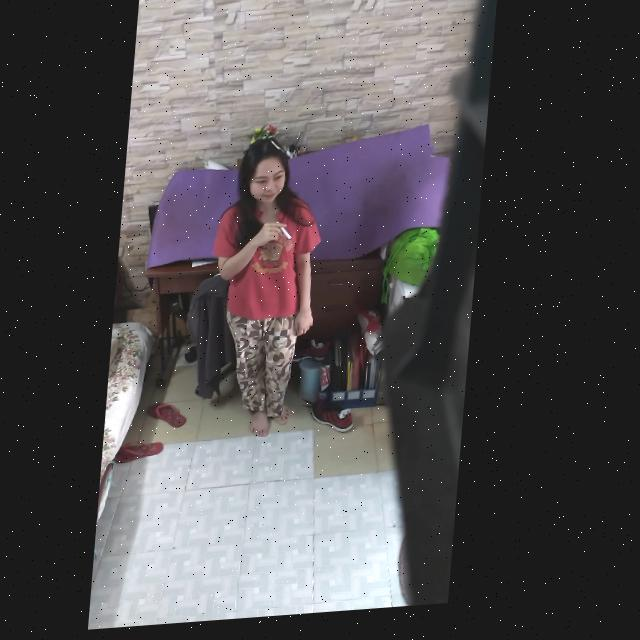cigarette: (279, 225, 297, 245)
